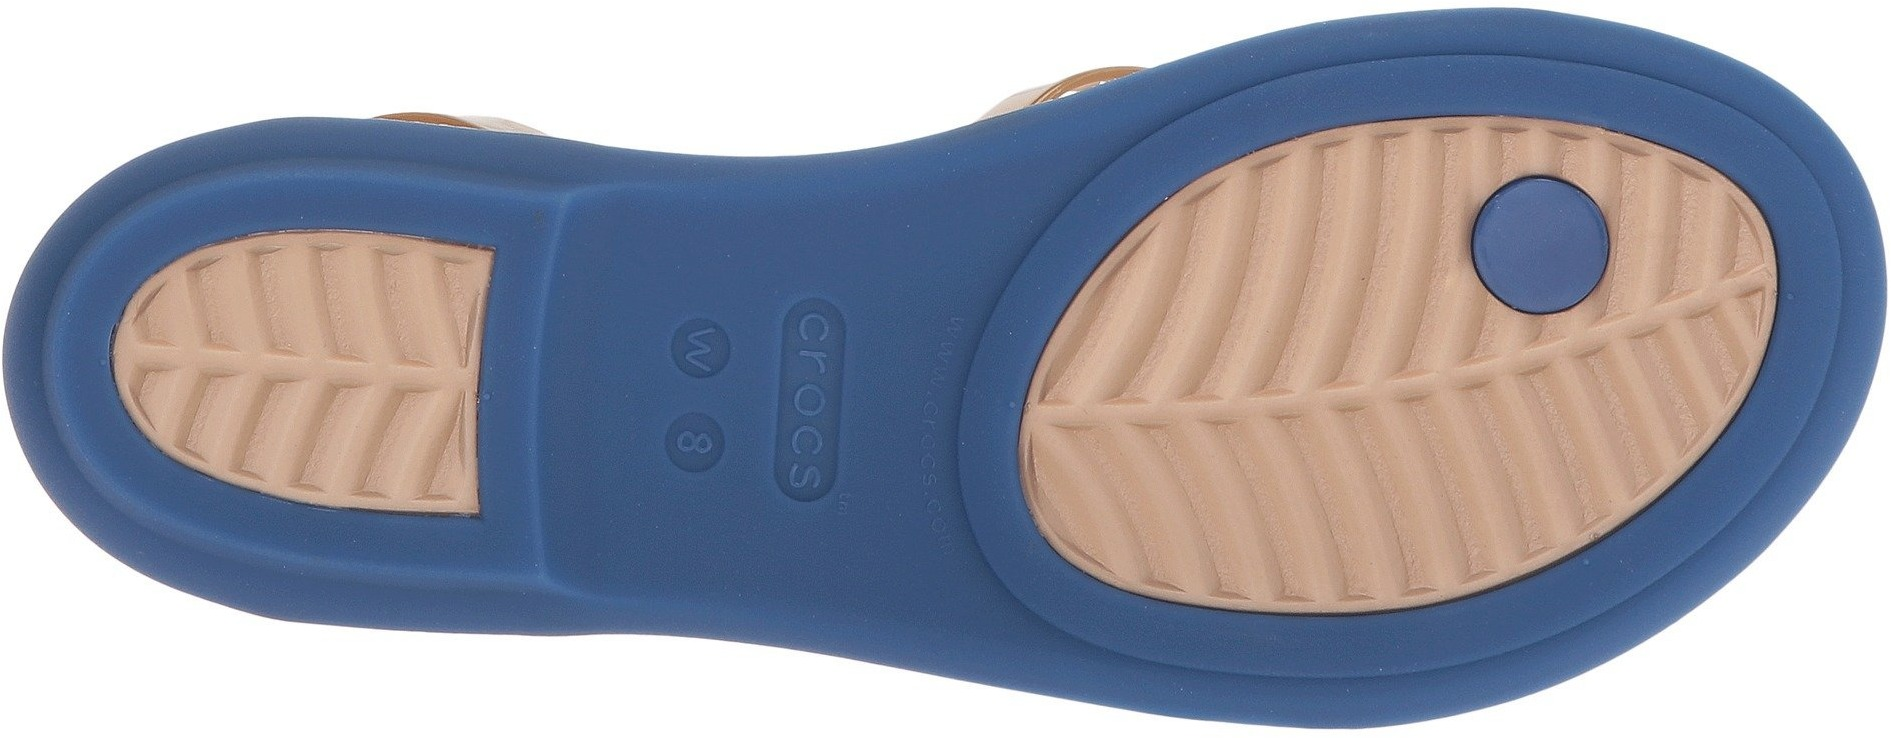chevron: (1103, 240, 1458, 576), (217, 248, 481, 498)
circle: (1445, 150, 1643, 345), (658, 304, 747, 392), (652, 398, 739, 479)
other: (747, 496, 861, 607), (756, 193, 868, 293)
quad: (699, 285, 913, 519)
text: (778, 301, 851, 382), (772, 418, 845, 497), (784, 375, 838, 429)
